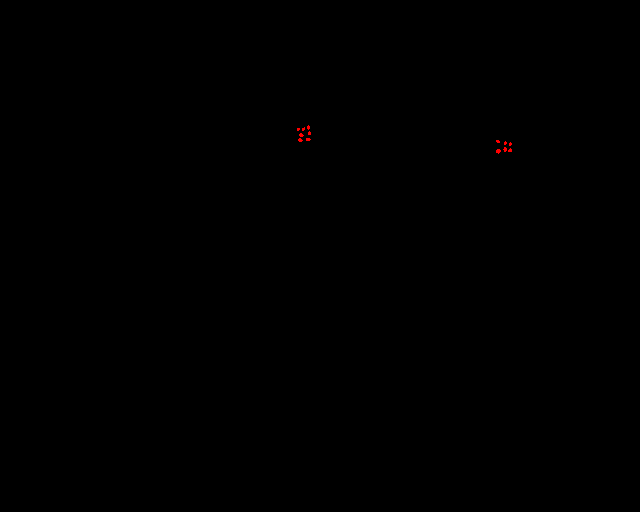Target: (496, 149, 501, 154), (299, 133, 304, 137), (298, 138, 303, 142), (503, 147, 507, 152), (508, 148, 512, 152), (307, 125, 310, 130), (306, 138, 311, 141), (302, 127, 305, 131), (308, 131, 311, 135), (496, 140, 500, 143), (504, 141, 507, 145), (509, 142, 512, 146), (297, 128, 300, 131)
